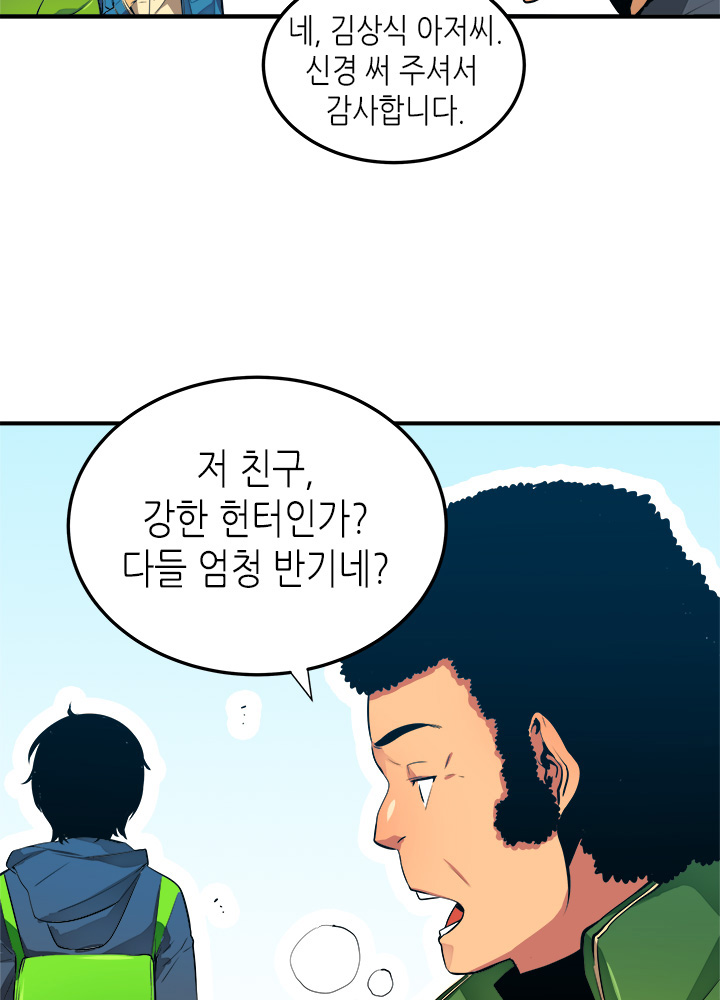dialog box: (36, 347, 472, 713), (234, 1, 555, 186)
text: (100, 415, 415, 635), (279, 4, 516, 147)
